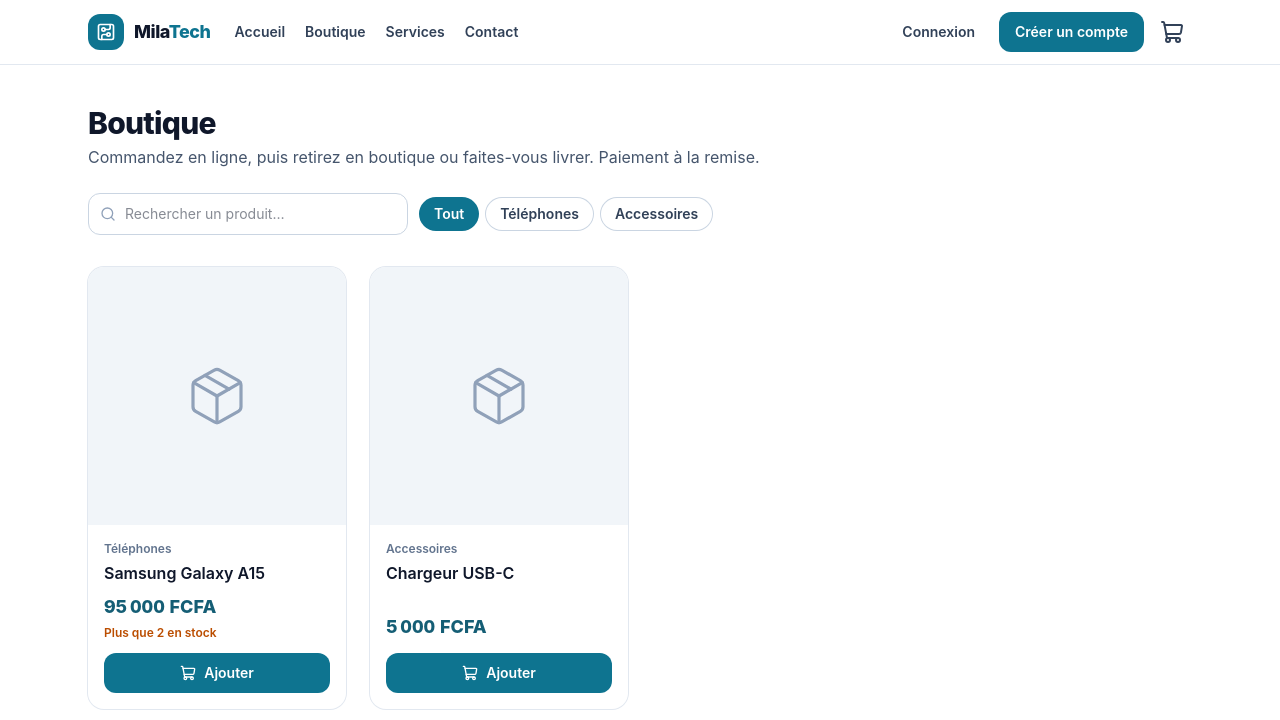
Scenario: Boutique en ligne › montre les produits disponibles et remplit le panier
Expected: the link "Samsung Galaxy A15" is shown, [104,563,265,583]
Expected: the text "95 000 FCFA" is shown, [104,596,216,617]
Click the button with aria-label "Ajouter au panier : Samsung Galaxy A15". click: (217, 673)
box: [104,653,330,693]
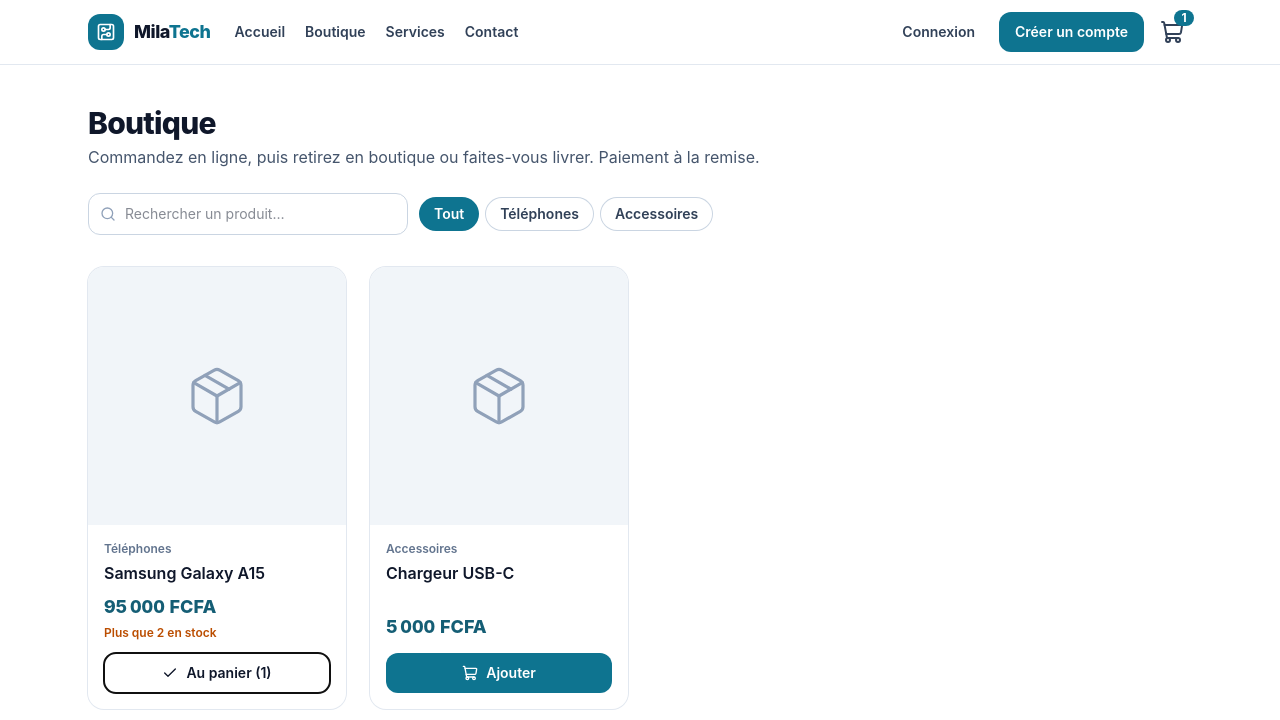
Click the button with aria-label "Ajouter au panier : Samsung Galaxy A15". click: (217, 673)
box: [104,653,330,693]
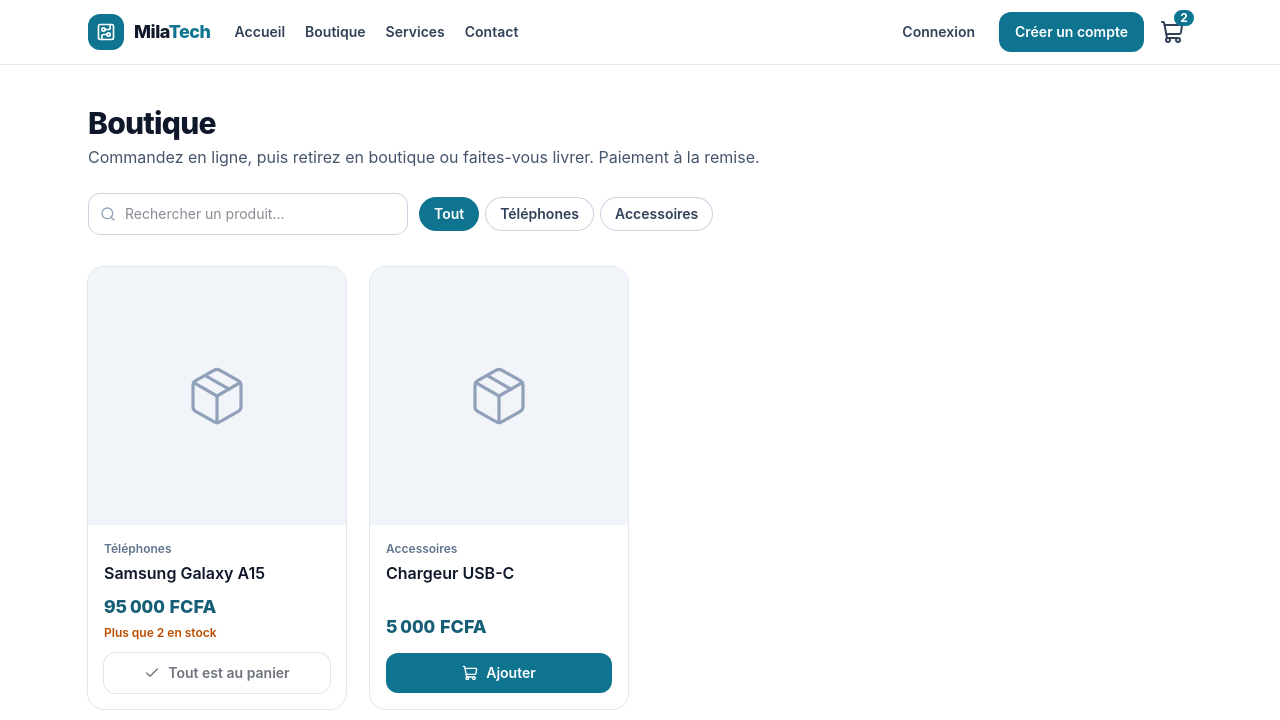
Result: the link named "Panier : 2 article(s)" is shown at [1152,12,1192,52]
Result: the button with aria-label "Ajouter au panier : Samsung Galaxy A15" is disabled at [104,653,330,693]
